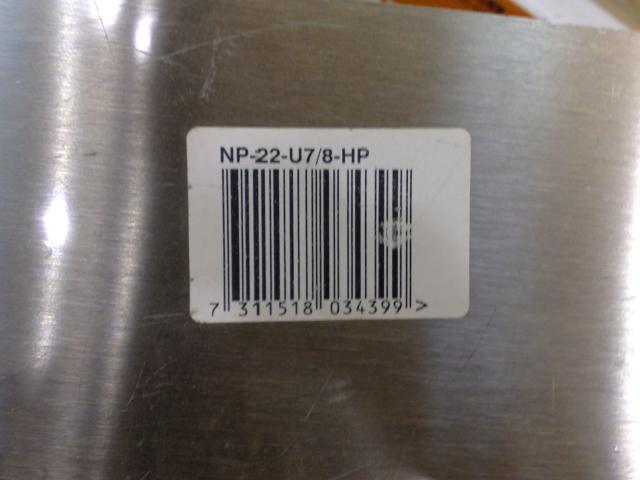Barcode: (209, 164, 439, 322)
